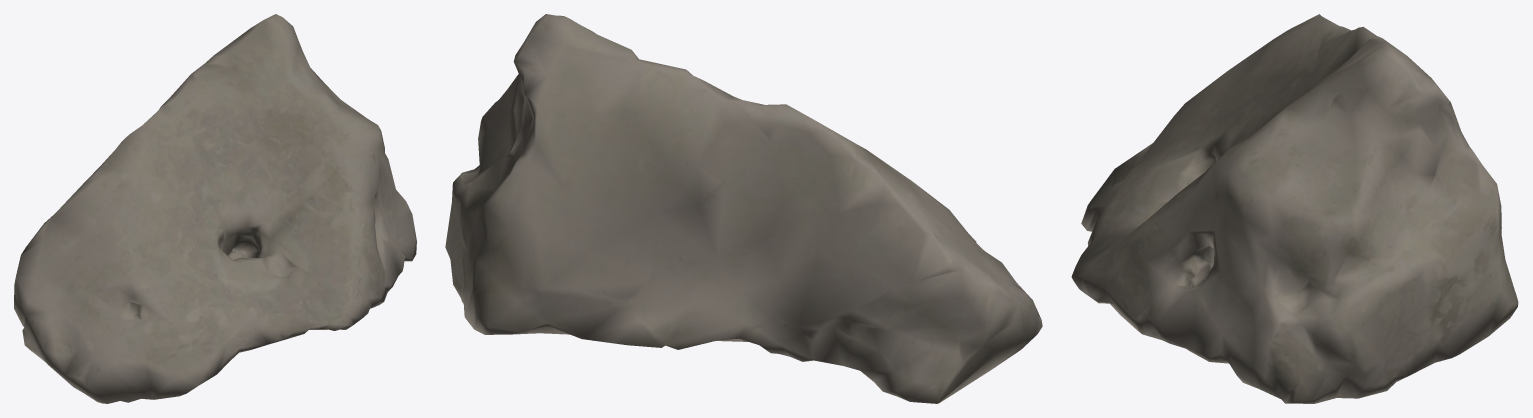
File: moon_rock_07.glb
3 views of the same model, side by side, from view 1: azimuth 30°, elevation 25°; view 2: azimuth 150°, elevation 25°; view 3: azimuth 270°, elevation 25° (orthographic). The views are drawn at different scales.
Visible parts, largest first — view 1: moon_rock_07_LOD0; view 2: moon_rock_07_LOD0; view 3: moon_rock_07_LOD0.
Boxes of the visible parts, box(x1,y1,x2,y2) form: moon_rock_07_LOD0: box(14, 14, 416, 403); moon_rock_07_LOD0: box(445, 14, 1042, 403); moon_rock_07_LOD0: box(1071, 14, 1518, 403).
Size of the model in its own units: 0.0966 by 0.0603 by 0.0738.
Materials: 1 (1 with a texture image).
